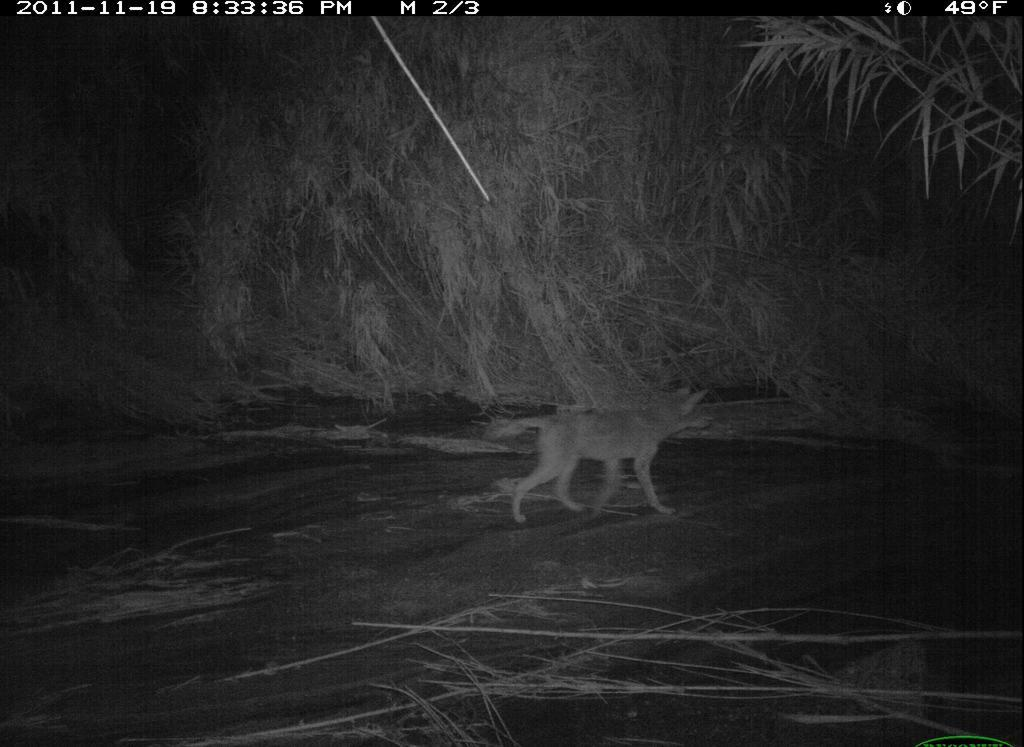coyote: (474, 378, 721, 533)
